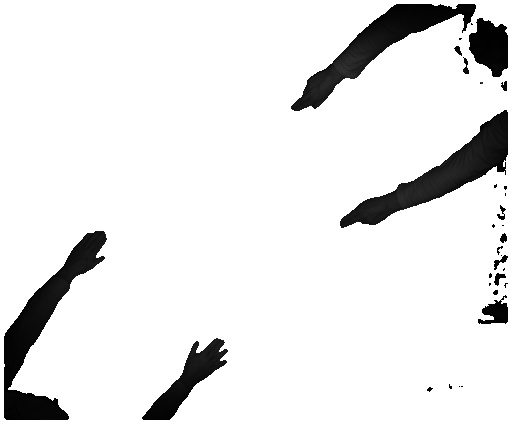hand: (65, 224, 111, 276), (185, 336, 231, 384), (336, 196, 395, 231), (288, 72, 339, 111)
